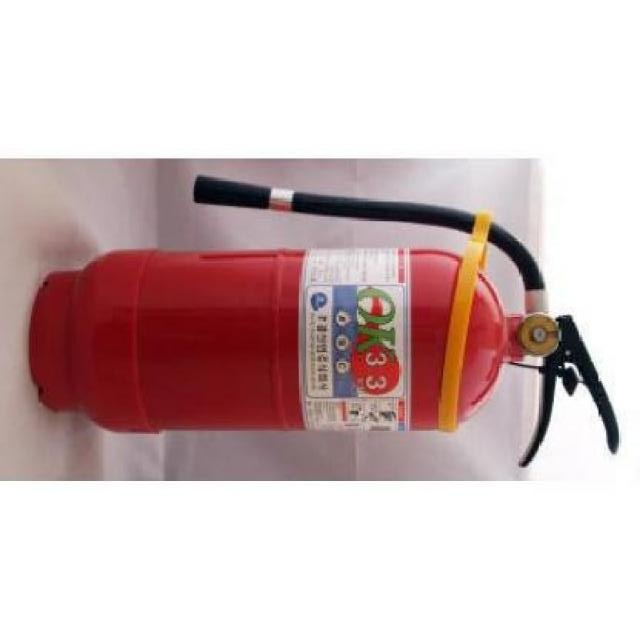fire extinguisher: (29, 175, 622, 467)
